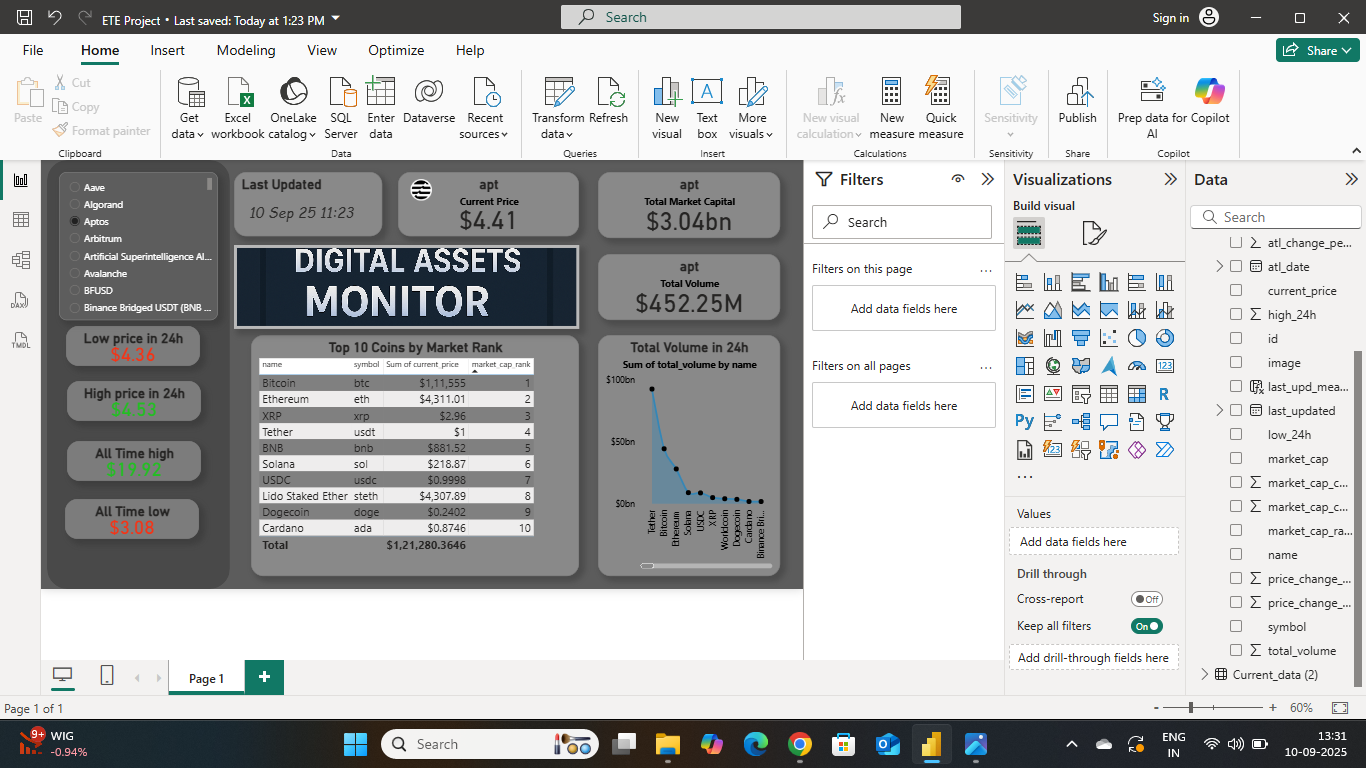

What the dashboard file says about the page in this screenshot:
{"tool":"powerbi","page":{"name":"Page 1","canvas":[1280,720],"ordinal":0},"visuals":[{"type":"shape","box":[10.1,0,307.4,720.6],"z":0},{"type":"advancedSlicerVisual","fields":{"Values":["Current_data.symbol"]},"box":[30.2,20.2,267.1,248.6],"z":1000},{"type":"kpi","fields":{"Indicator":["Current_data.current_price"],"TrendLine":["Currencies.name"]},"box":[599.7,20.2,304,107.5],"z":2000},{"type":"kpi","fields":{"Indicator":["Current_data.market_cap"],"TrendLine":["Current_data.name"]},"box":[935.6,20.2,305.7,110.9],"z":3000},{"type":"cardVisual","fields":{"Data":["Current_data.image"]},"box":[599.7,15.1,72.2,58.8],"z":4000},{"type":"kpi","title":"Low price in 24h","fields":{"Indicator":["Current_data.low_24h"],"TrendLine":["Current_data.name"]},"box":[42,278.8,225.1,67.2],"z":5000},{"type":"kpi","title":"High price in 24h","fields":{"TrendLine":["Current_data.name"],"Indicator":["Current_data.high_24h"]},"box":[43.7,371.2,225.1,67.2],"z":6000},{"type":"cardVisual","title":"Last Updated","fields":{"Data":["Current_data.last_upd_measure"]},"box":[324.2,20.2,248.6,107.5],"z":7000},{"type":"kpi","title":"All Time high ","fields":{"Indicator":["Current_data.ath"],"TrendLine":["Currencies.id"]},"box":[43.7,472,225.1,67.2],"z":8000},{"type":"kpi","title":"All Time low","fields":{"TrendLine":["Currencies.id"],"Indicator":["Current_data.atl"]},"box":[40.3,569.4,225.1,67.2],"z":9000},{"type":"tableEx","title":"Top 10 Coins by Market Rank","fields":{"Values":["Current_data (2).name","Current_data (2).symbol","Current_data (2).current_price","Current_data (2).market_cap_rank"]},"box":[352.8,294,551,404.8],"z":10000},{"type":"lineChart","title":"Total Volume in 24h","fields":{"Y":["Current_data (2).total_volume"],"Category":["Current_data (2).name"]},"box":[935.6,294,305.7,404.8],"z":11001},{"type":"kpi","fields":{"TrendLine":["Current_data.name"],"Indicator":["Current_data.total_volume"]},"box":[935.6,157.9,305.7,110.9],"z":11002},{"type":"image","box":[324.2,142.8,579.5,141.1],"z":11003}]}

Visuals, with their boxes on the page's 1280x720 design canvas (x1, y1, x2, y2). These are canvas units, not pixel positions in the 1366x768 screenshot, which may show the page scaled, cropped or inside an application window:
shape: [10, 0, 318, 721]
advancedSlicerVisual - Current_data.symbol: [30, 20, 297, 269]
kpi - Current_data.current_price x Currencies.name: [600, 20, 904, 128]
kpi - Current_data.market_cap x Current_data.name: [936, 20, 1241, 131]
cardVisual - Current_data.image: [600, 15, 672, 74]
"Low price in 24h" kpi: [42, 279, 267, 346]
"High price in 24h" kpi: [44, 371, 269, 438]
"Last Updated" cardVisual: [324, 20, 573, 128]
"All Time high " kpi: [44, 472, 269, 539]
"All Time low" kpi: [40, 569, 265, 637]
"Top 10 Coins by Market Rank" tableEx: [353, 294, 904, 699]
"Total Volume in 24h" lineChart: [936, 294, 1241, 699]
kpi - Current_data.name x Current_data.total_volume: [936, 158, 1241, 269]
image: [324, 143, 904, 284]
